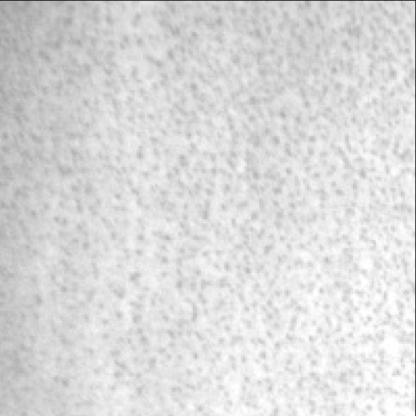pitted_surface: (4, 2, 416, 416)
